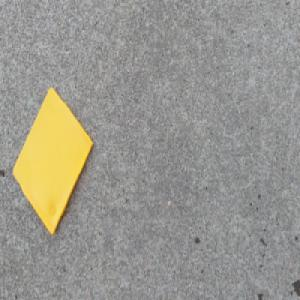PlasticPart: (9, 81, 94, 235)
